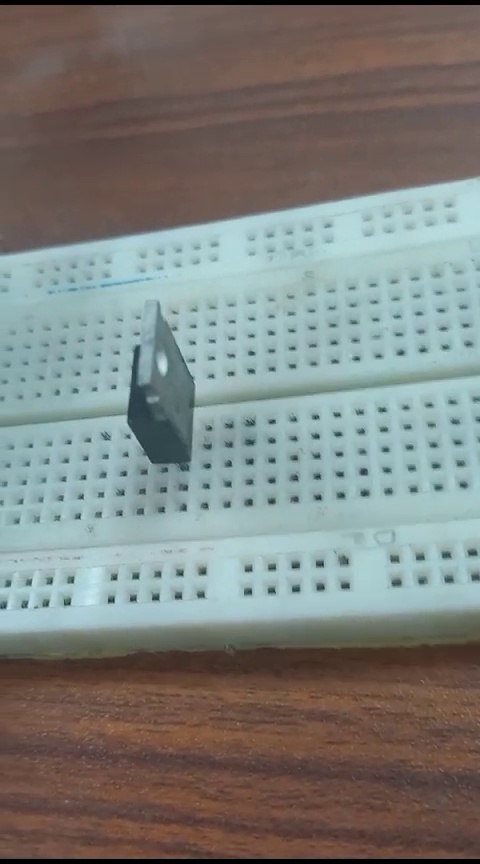voltage regulator: (112, 297, 194, 484)
